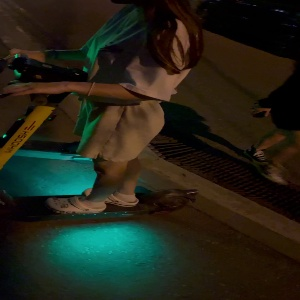human on a scooter: (1, 1, 205, 225)
